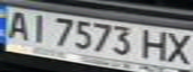3: (112, 24, 139, 57)
5: (69, 18, 93, 52)
7: (48, 15, 75, 47), (90, 20, 115, 54)
A: (3, 8, 33, 41)
H: (139, 27, 172, 61)
I: (24, 11, 51, 43)
X: (163, 29, 193, 65)
